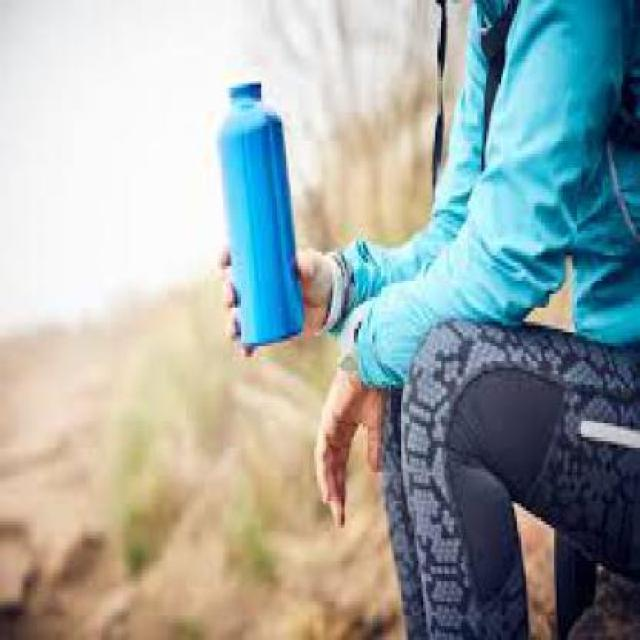Drinking: (207, 63, 322, 354)
